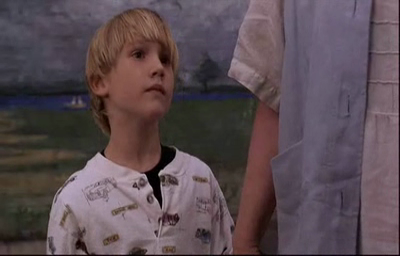face: (121, 36, 174, 118)
mcu: (1, 1, 398, 256)
person: (44, 7, 234, 254)
